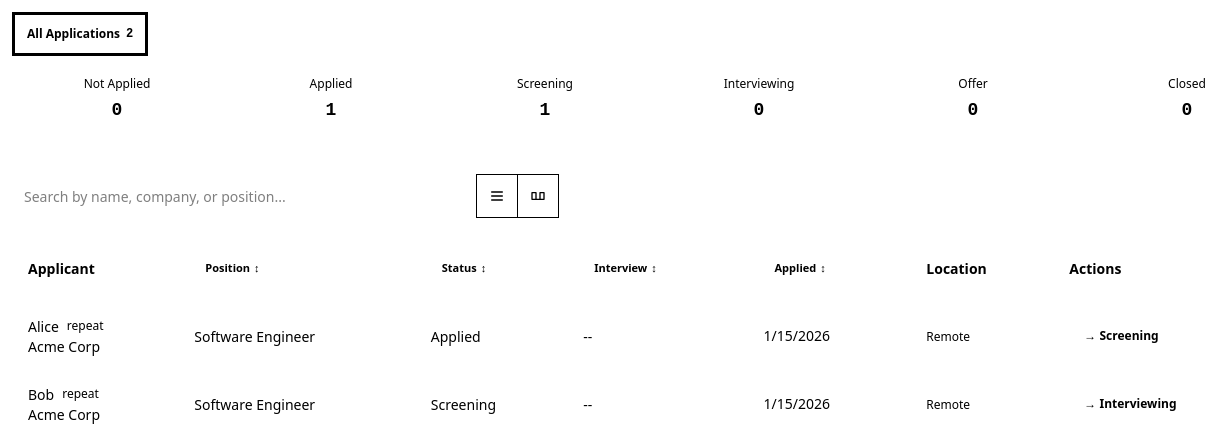
Test: EmployerDashboard › filters applications when funnel stage is clicked
The image size is (1222, 441).
Step 1. Click the button with aria-label "screening: 1 application" → (545, 105), box left=440, top=68, right=650, bottom=142
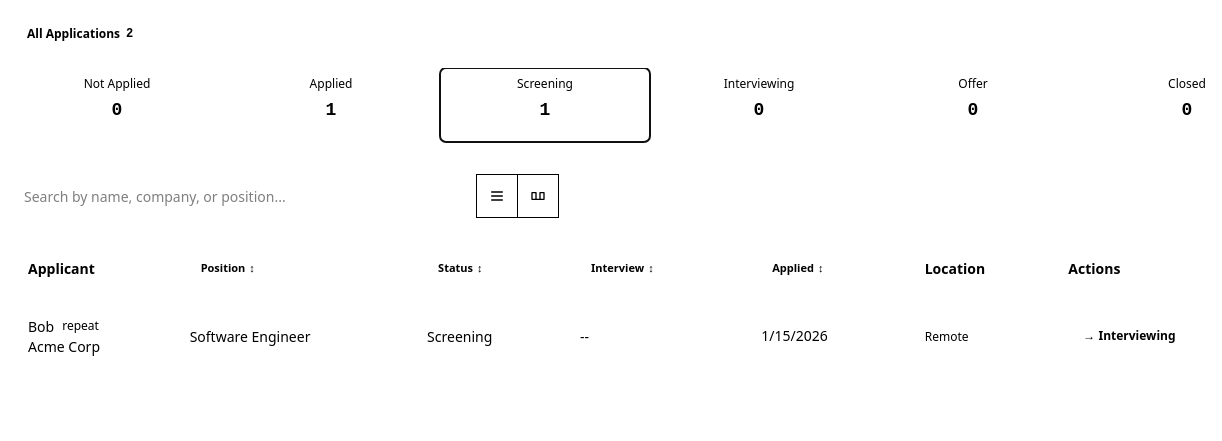
expect the text "Bob" is shown: met, box left=28, top=316, right=54, bottom=336
expect the text "Alice" is gone: met
